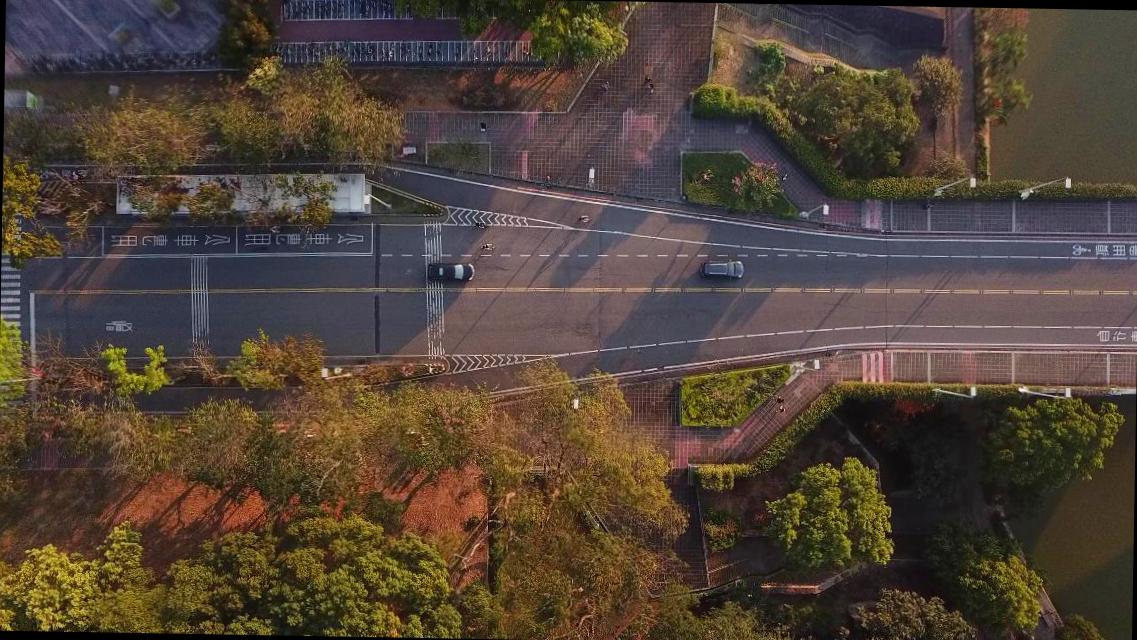vehicle: (425, 262, 475, 282), (700, 258, 744, 280)
